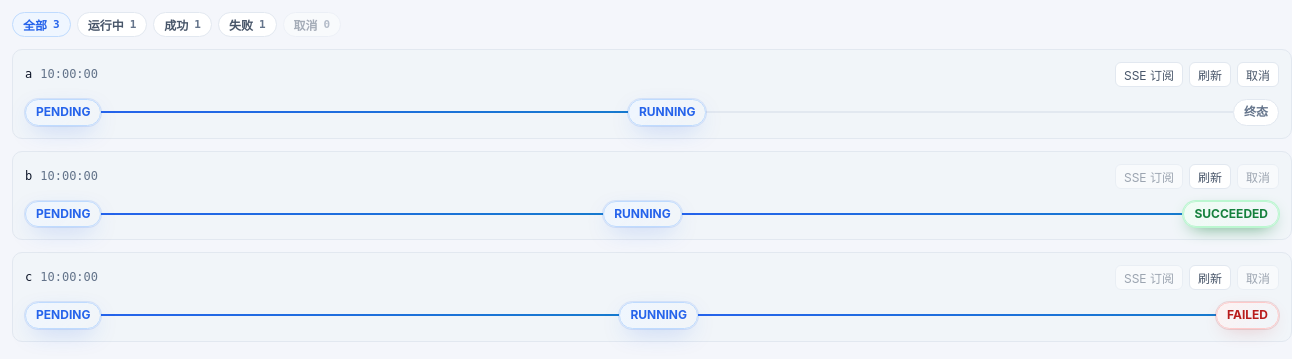
it: AsyncTaskTimeline › 点击某状态过滤只保留该组任务，再次点击恢复全部
Step 1. Click the button with class "tl__filter" showing "成功 1" → (183,24), box [153,12,212,37]
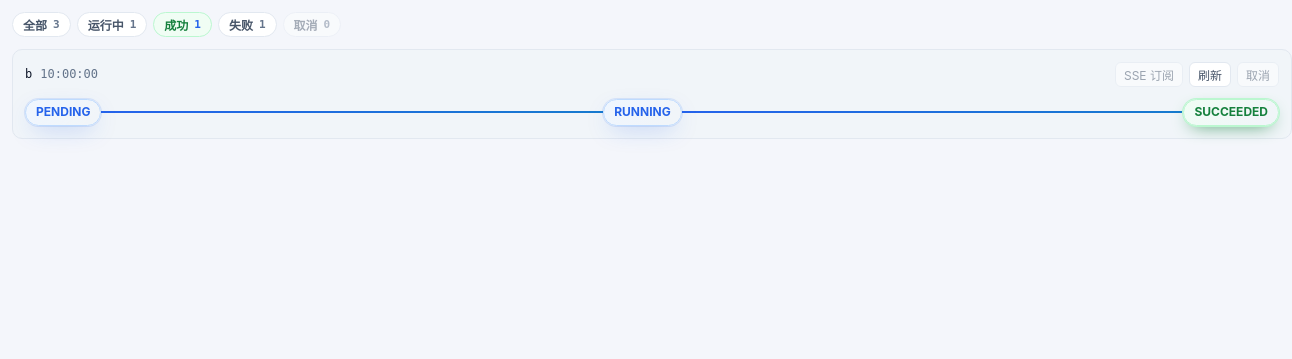
Check: the number of list items with class "tl__item" is 1, box [12,49,1291,139]
Step 2. Click the button with class "tl__filter" showing "成功 1" → (183,24), box [153,12,212,37]
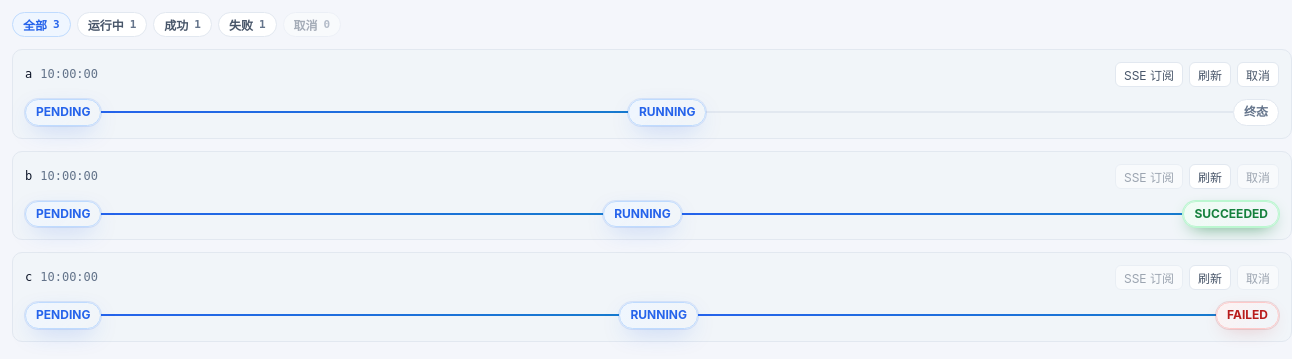
Check: the number of list items with class "tl__item" is 3, box [12,49,1291,139]; [12,151,1291,240]; [12,252,1291,342]
